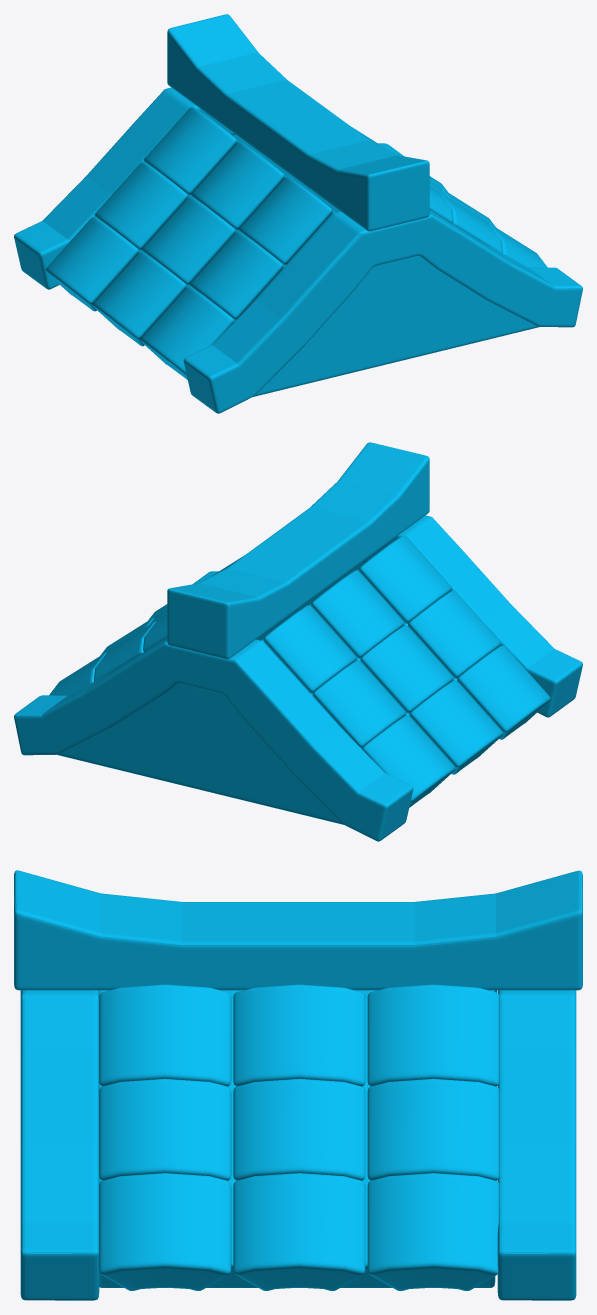
File: SM_Stone_Roof_04.fbx
3 renders of one model, top to bottom at view 1: azimuth 30°, elevation 25°; view 2: azimuth 150°, elevation 25°; view 3: azimuth 270°, elevation 25°, orthographic. The views are drawn at different scales.
Parts seen in each view (by area): view 1: SM_Stone_Roof_04; view 2: SM_Stone_Roof_04; view 3: SM_Stone_Roof_04.
Part boxes in pixels (bbox=[...]): SM_Stone_Roof_04: bbox=[14, 14, 582, 413]; SM_Stone_Roof_04: bbox=[14, 442, 582, 841]; SM_Stone_Roof_04: bbox=[14, 870, 582, 1300].
Bounding box in the file's own units: 2.8 × 1.45 × 2.55.
